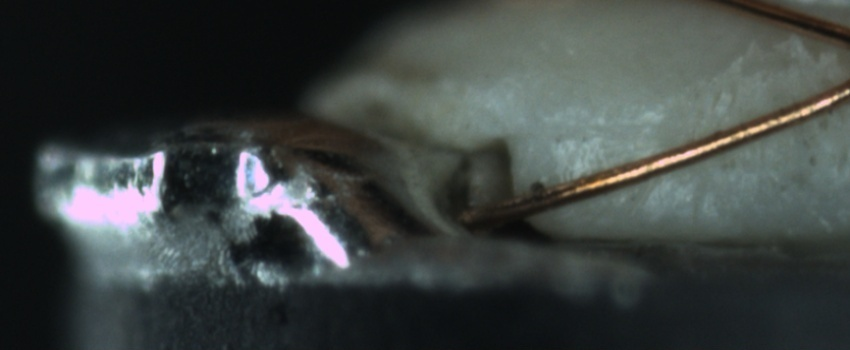DL: (541, 97, 668, 162)
